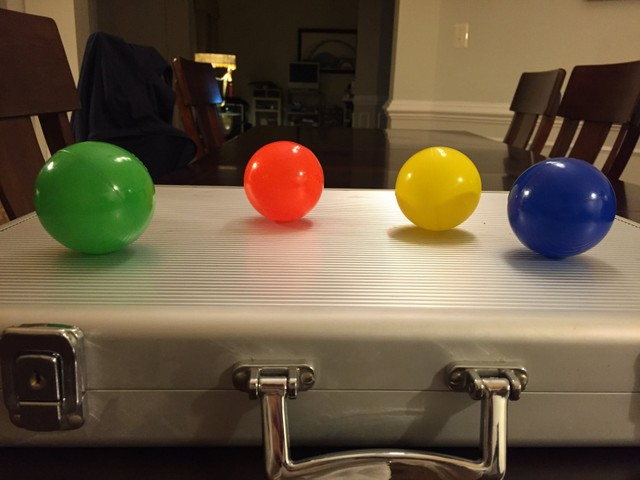Ball: (504, 157, 616, 259)
